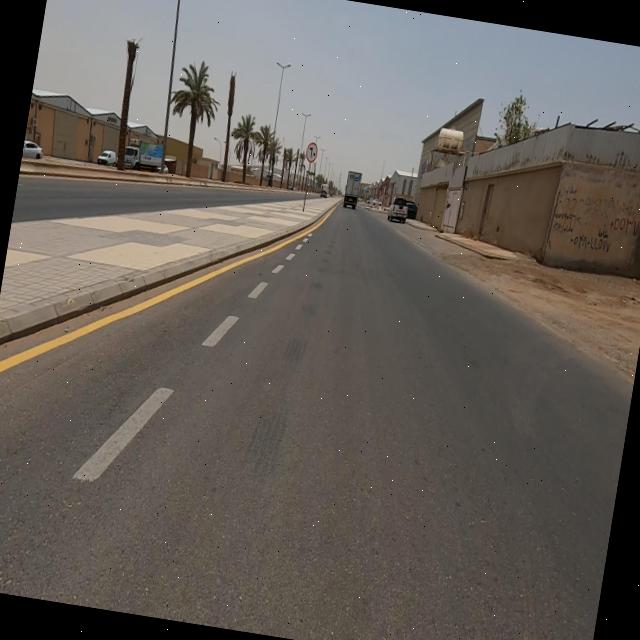Graffiti: (552, 183, 640, 261)
